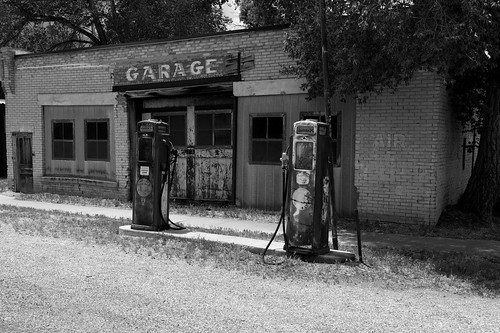building: (1, 25, 437, 231)
gas pump: (274, 115, 340, 256), (126, 117, 177, 239)
